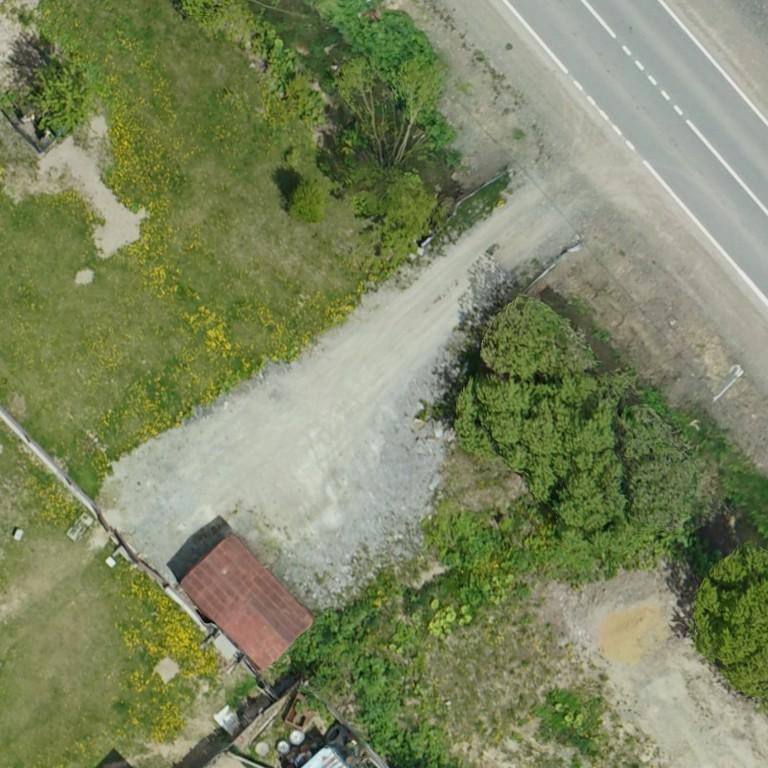hogweed: (336, 12, 432, 69)
